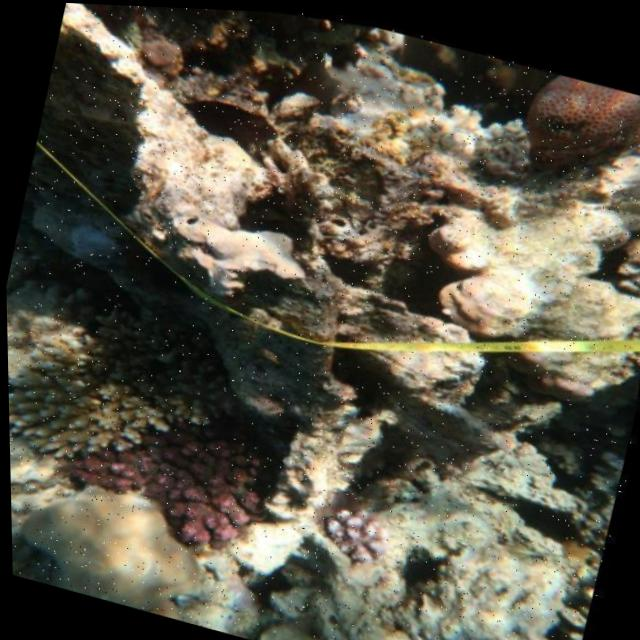Healthy Coral: (54, 388, 289, 573), (6, 319, 158, 475), (516, 59, 640, 186)
